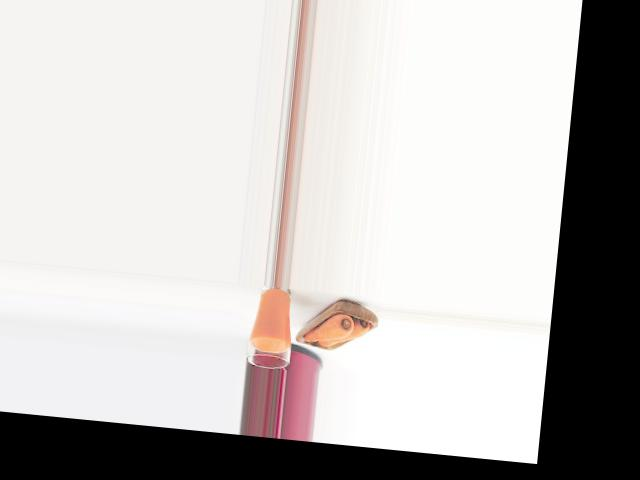carrot: (323, 314, 372, 350)
